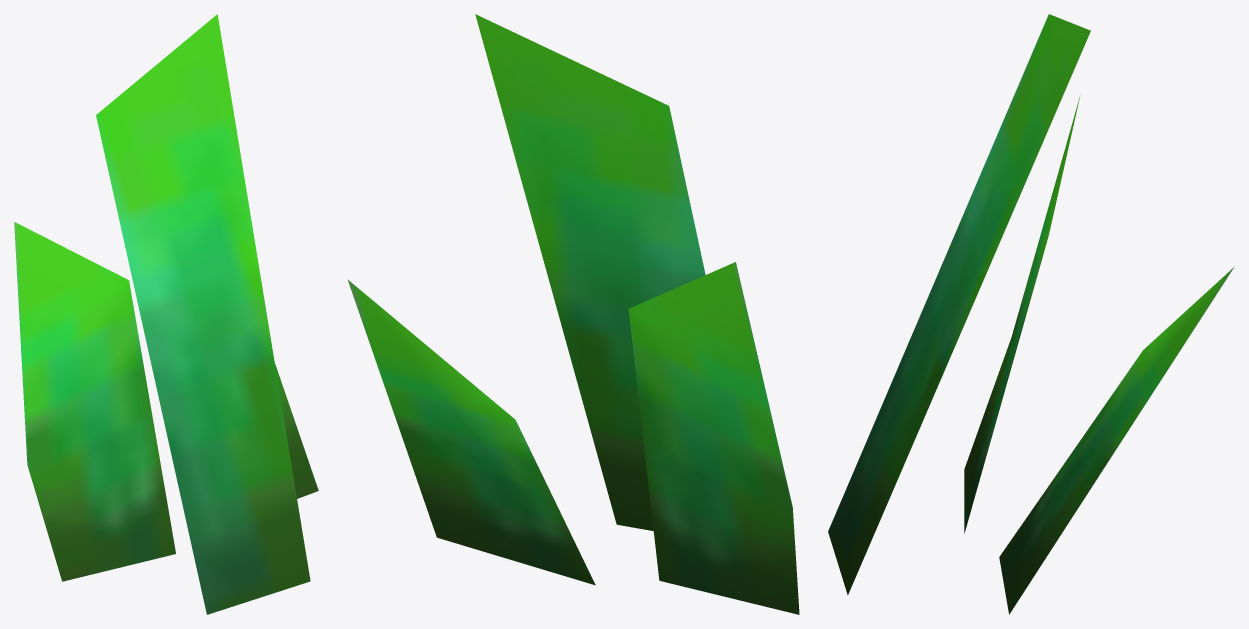
Rendered from fg_grassB.dae.
The picture shows the model from 3 angles, left to right: view 1: azimuth 30°, elevation 25°; view 2: azimuth 150°, elevation 25°; view 3: azimuth 270°, elevation 25°; orthographic projection. The views are drawn at different scales.
Parts seen in each view (by area): view 1: fg_grassB; view 2: fg_grassB; view 3: fg_grassB.
Boxes of the visible parts, <box> form: fg_grassB: <box>14,14,318,614</box>; fg_grassB: <box>347,14,799,614</box>; fg_grassB: <box>828,14,1234,614</box>.
Bounding box in the file's own units: 13.26 × 21.31 × 13.76.
Materials: 1 (1 with a texture image).
